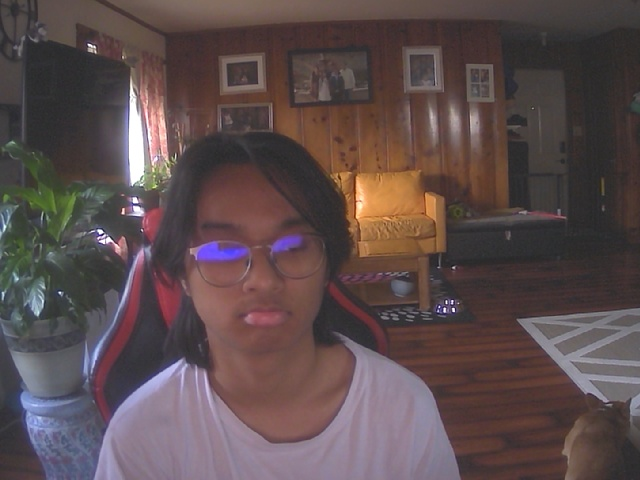sad: (173, 135, 328, 364)
